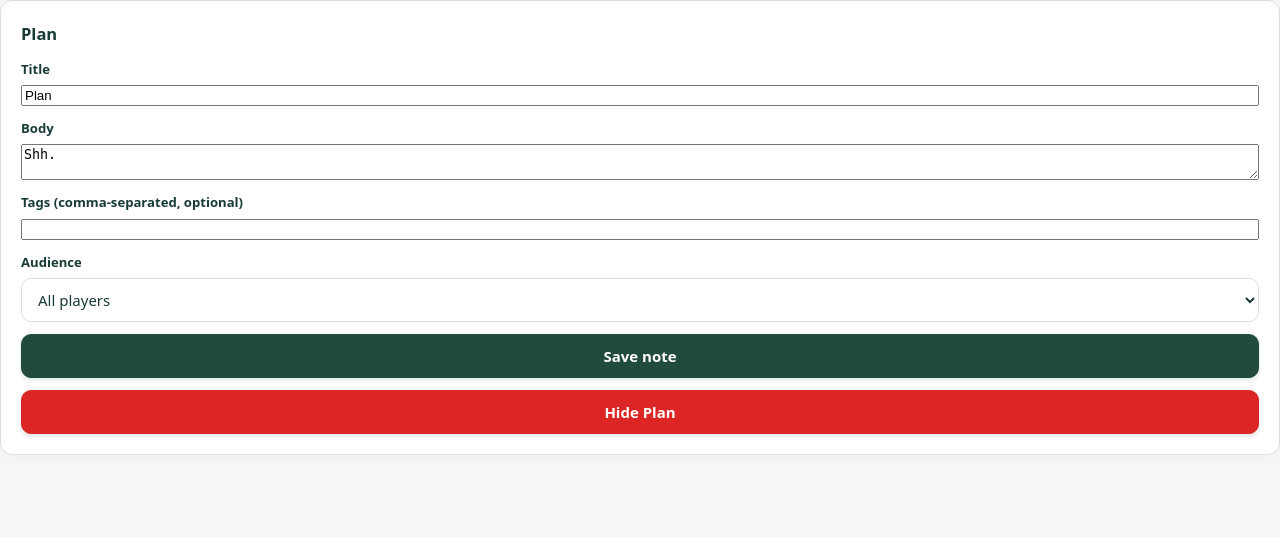
ContentEditor › keeps input and the conflict notice visible after a 409
Replace the text in the field labelled "Title" with "New title" at (640, 95), box 21,85 -> 1259,106
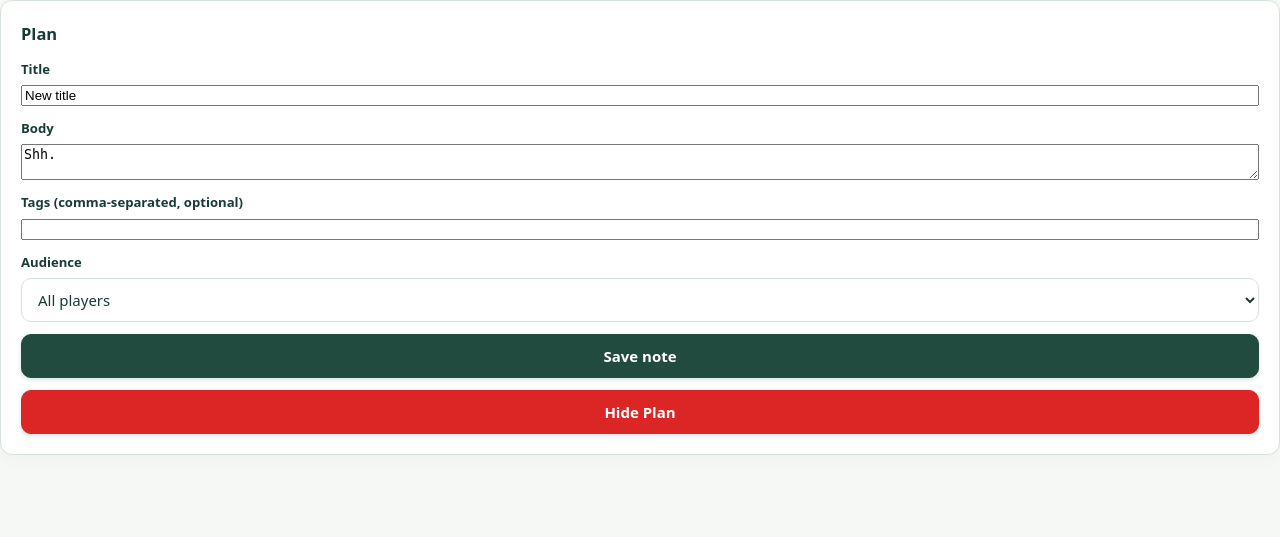
Click the button "Save note" at (640, 356), box 21,334 -> 1259,378
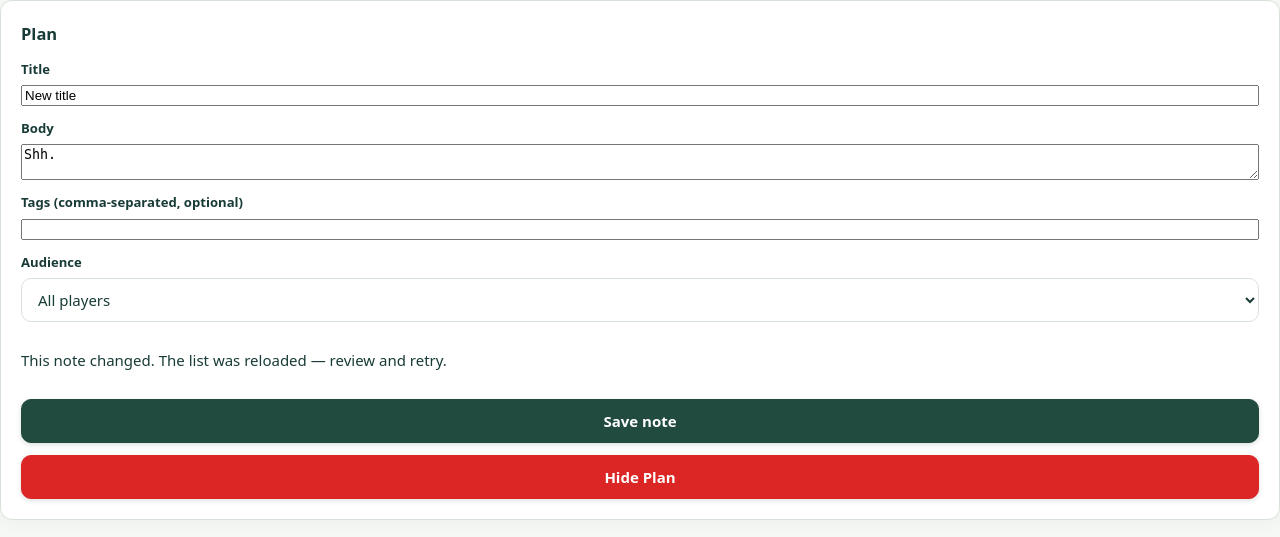
Now the message reads "This note changed. The list was reloaded — review and retry.", box 21,350 -> 447,370
